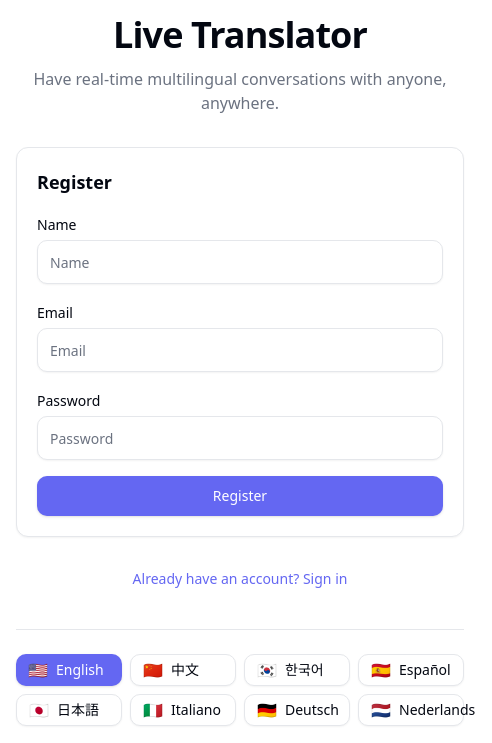
Auth language selector › Register: switches language when clicking a language tile
Expected: the button with test id "register-submit" reads "Register", [37, 476, 443, 516]
Click the button with test id "lang-zh" at [183, 670], box [130, 654, 236, 686]
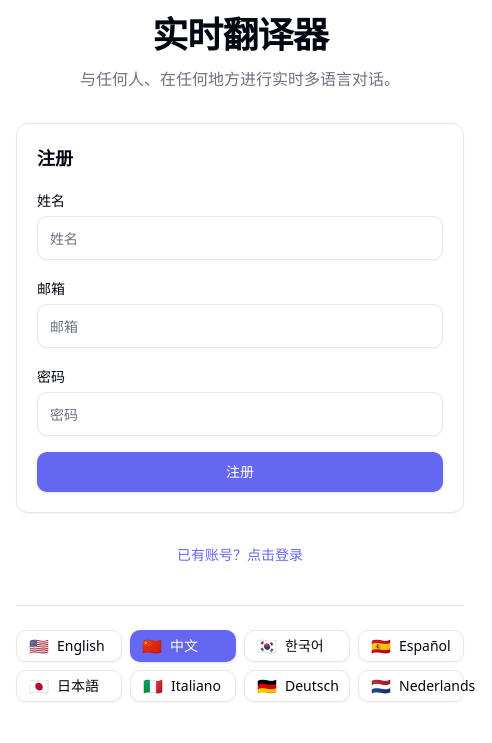
Expected: the button with test id "register-submit" reads "注册", [37, 452, 443, 492]
